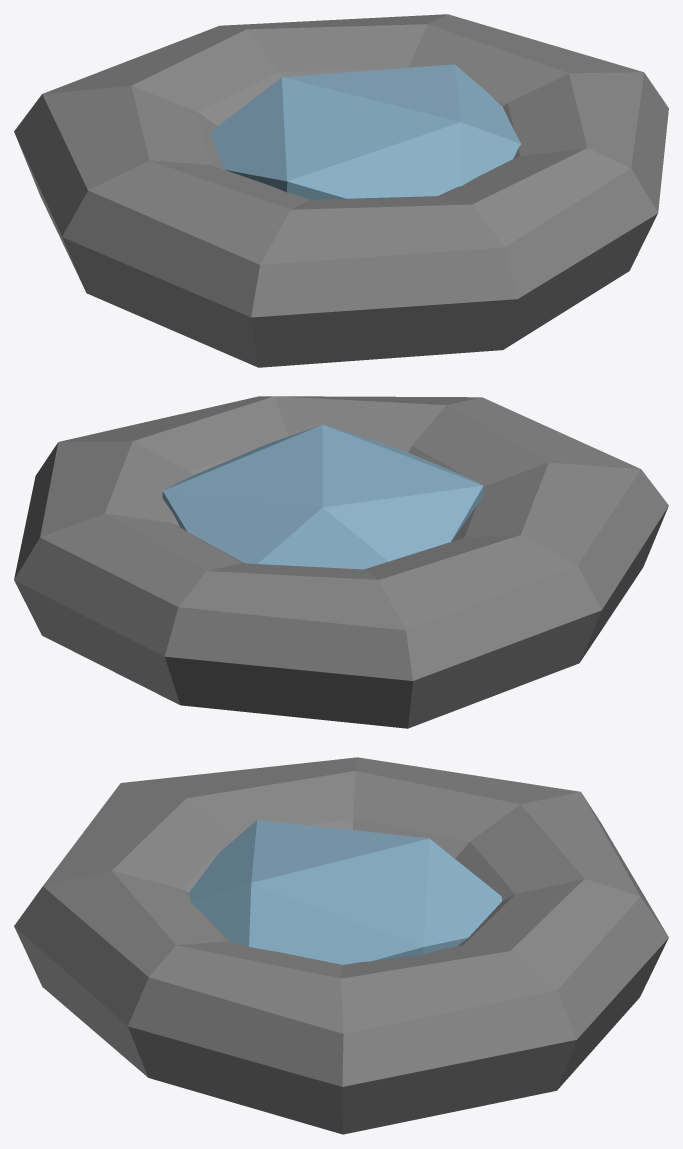
The model's file is power_core.fbx.
The picture shows the model from 3 angles, top to bottom: view 1: azimuth 30°, elevation 25°; view 2: azimuth 150°, elevation 25°; view 3: azimuth 270°, elevation 25°; orthographic projection. The views are drawn at different scales.
Parts seen in each view (by area): view 1: golem_0_core_1; view 2: golem_0_core_1; view 3: golem_0_core_1.
Part boxes in pixels (x1,y1,x2,y2): golem_0_core_1: [14, 14, 668, 367]; golem_0_core_1: [14, 396, 668, 728]; golem_0_core_1: [14, 757, 668, 1134].
Size of the model in its own units: 0.191 by 0.045 by 0.1821.
